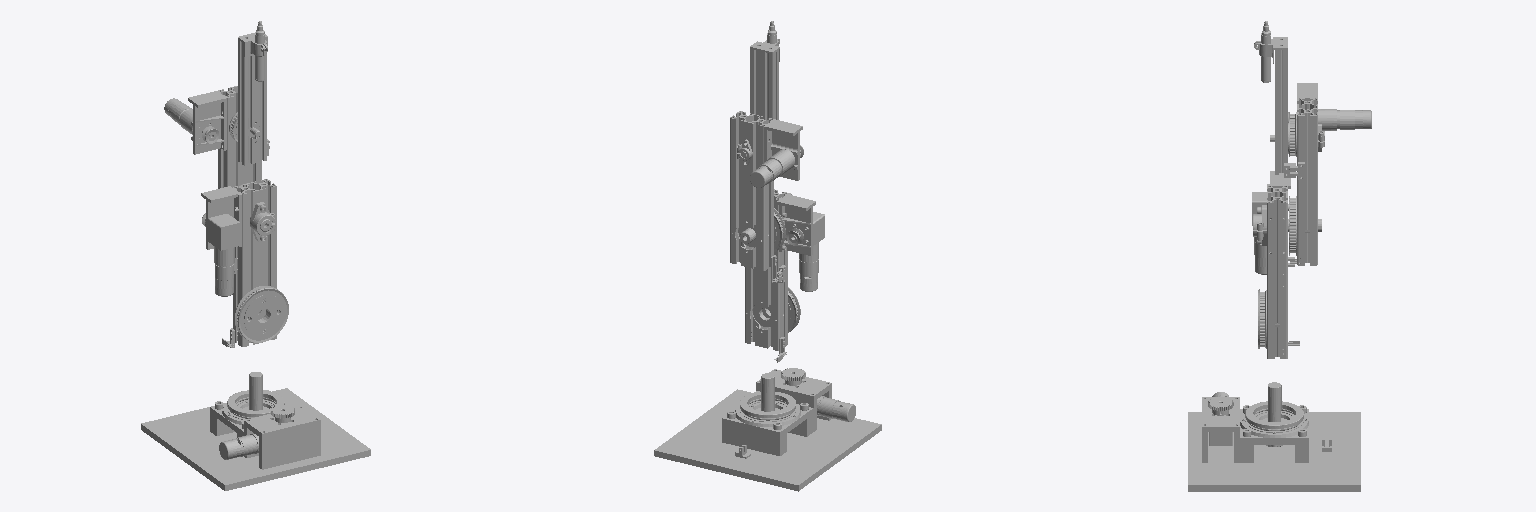
robot.urdf — coop_robot:
<robot
  name="coop_robot">
  <link
    name="link_00">
    <inertial>
      <origin
        xyz="-0.0023271 -0.014441 0.023123"
        rpy="0 0 0" />
      <mass
        value="1.3431" />
      <inertia
        ixx="0.0057456"
        ixy="-0.00020025"
        ixz="5.6132E-05"
        iyy="0.0046709"
        iyz="0.00042835"
        izz="0.0091733" />
    </inertial>
    <visual>
      <origin
        xyz="0 0 0"
        rpy="0 0 0" />
      <geometry>
        <mesh
          filename="package://coop_robot/meshes/link_00.STL" />
      </geometry>
      <material
        name="">
        <color
          rgba="0.75294 0.75294 0.75294 1" />
      </material>
    </visual>
    <collision>
      <origin
        xyz="0 0 0"
        rpy="0 0 0" />
      <geometry>
        <mesh
          filename="package://coop_robot/meshes/link_00.STL" />
      </geometry>
    </collision>
  </link>
  <link
    name="link_01">
    <inertial>
      <origin
        xyz="-0.0045838 -0.0037478 0.086733"
        rpy="0 0 0" />
      <mass
        value="1.8146" />
      <inertia
        ixx="0.0099497"
        ixy="-0.00038717"
        ixz="0.00032994"
        iyy="0.0083348"
        iyz="0.00028475"
        izz="0.0056515" />
    </inertial>
    <visual>
      <origin
        xyz="0 0 0"
        rpy="0 0 0" />
      <geometry>
        <mesh
          filename="package://coop_robot/meshes/link_01.STL" />
      </geometry>
      <material
        name="">
        <color
          rgba="0.75294 0.75294 0.75294 1" />
      </material>
    </visual>
    <collision>
      <origin
        xyz="0 0 0"
        rpy="0 0 0" />
      <geometry>
        <mesh
          filename="package://coop_robot/meshes/link_01.STL" />
      </geometry>
    </collision>
  </link>
  <joint
    name="joint_01"
    type="revolute">
    <origin
      xyz="0 0 0.067"
      rpy="-3.9479E-49 0 0" />
    <parent
      link="link_00" />
    <child
      link="link_01" />
    <axis
      xyz="0 0 1" />
    <limit effort="0" velocity="0.1" lower="-1.6" upper="1.6"/>
  </joint>
  <link
    name="link_02">
    <inertial>
      <origin
        xyz="-0.0087922 0.1007 0.0028096"
        rpy="0 0 0" />
      <mass
        value="0.97328" />
      <inertia
        ixx="0.0049603"
        ixy="0.00023072"
        ixz="8.39E-05"
        iyy="0.0010337"
        iyz="0.00010422"
        izz="0.0052056" />
    </inertial>
    <visual>
      <origin
        xyz="0 0 0"
        rpy="0 0 0" />
      <geometry>
        <mesh
          filename="package://coop_robot/meshes/link_02.STL" />
      </geometry>
      <material
        name="">
        <color
          rgba="0.75294 0.75294 0.75294 1" />
      </material>
    </visual>
    <collision>
      <origin
        xyz="0 0 0"
        rpy="0 0 0" />
      <geometry>
        <mesh
          filename="package://coop_robot/meshes/link_02.STL" />
      </geometry>
    </collision>
  </link>
  <joint
    name="joint_02"
    type="revolute">
    <origin
      xyz="0 0.004 0.15"
      rpy="1.5708 6.8423E-48 0" />
    <parent
      link="link_01" />
    <child
      link="link_02" />
    <axis
      xyz="0 0 -1" />
    <limit effort="0" velocity="0.1" lower="0" upper="1.6"/>
  </joint>
  <link
    name="link_03">
    <inertial>
      <origin
        xyz="-0.010146 0.072167 -0.0024895"
        rpy="0 0 0" />
      <mass
        value="0.59881" />
      <inertia
        ixx="0.0032746"
        ixy="0.00043152"
        ixz="-0.00015625"
        iyy="0.00070874"
        iyz="0.00027145"
        izz="0.0035174" />
    </inertial>
    <visual>
      <origin
        xyz="0 0 0"
        rpy="0 0 0" />
      <geometry>
        <mesh
          filename="package://coop_robot/meshes/link_03.STL" />
      </geometry>
      <material
        name="">
        <color
          rgba="0.75294 0.75294 0.75294 1" />
      </material>
    </visual>
    <collision>
      <origin
        xyz="0 0 0"
        rpy="0 0 0" />
      <geometry>
        <mesh
          filename="package://coop_robot/meshes/link_03.STL" />
      </geometry>
    </collision>
  </link>
  <joint
    name="joint_03"
    type="revolute">
    <origin
      xyz="0 0.15 -0.044"
      rpy="3.9479E-49 0 0" />
    <parent
      link="link_02" />
    <child
      link="link_03" />
    <axis
      xyz="0 0 -1" />
    <limit effort="0" velocity="0.1" lower="0" upper="1.6"/>
  </joint>
  <link
    name="link_04">
    <inertial>
      <origin
        xyz="0.00093468 0.033853 0.033404"
        rpy="0 0 0" />
      <mass
        value="0.091248" />
      <inertia
        ixx="0.00028862"
        ixy="6.2938E-06"
        ixz="6.6376E-07"
        iyy="2.3828E-05"
        iyz="-1.5879E-05"
        izz="0.00029741" />
    </inertial>
    <visual>
      <origin
        xyz="0 0 0"
        rpy="0 0 0" />
      <geometry>
        <mesh
          filename="package://coop_robot/meshes/link_04.STL" />
      </geometry>
      <material
        name="">
        <color
          rgba="0.75294 0.75294 0.75294 1" />
      </material>
    </visual>
    <collision>
      <origin
        xyz="0 0 0"
        rpy="0 0 0" />
      <geometry>
        <mesh
          filename="package://coop_robot/meshes/link_04.STL" />
      </geometry>
    </collision>
  </link>
  <joint
    name="joint_04"
    type="revolute">
    <origin
      xyz="0 0.14 0"
      rpy="3.9479E-49 0 0" />
    <parent
      link="link_03" />
    <child
      link="link_04" />
    <axis
      xyz="0 0 -1" />
    <limit effort="0" velocity="0.1" lower="0" upper="1.6"/>
  </joint>
  <link
    name="link_05">
    <inertial>
      <origin
        xyz="-5.9985E-11 -0.050802 -0.0033648"
        rpy="0 0 0" />
      <mass
        value="0.022612" />
      <inertia
        ixx="1.1224E-05"
        ixy="4.0657E-14"
        ixz="4.7561E-15"
        iyy="2.5217E-06"
        iyz="7.9297E-07"
        izz="1.057E-05" />
    </inertial>
    <visual>
      <origin
        xyz="0 0 0"
        rpy="0 0 0" />
      <geometry>
        <mesh
          filename="package://coop_robot/meshes/link_05.STL" />
      </geometry>
      <material
        name="">
        <color
          rgba="0.75294 0.75294 0.75294 1" />
      </material>
    </visual>
    <collision>
      <origin
        xyz="0 0 0"
        rpy="0 0 0" />
      <geometry>
        <mesh
          filename="package://coop_robot/meshes/link_05.STL" />
      </geometry>
    </collision>
  </link>
  <joint
    name="end_effector"
    type="fixed">
    <origin
      xyz="0 0.188 0.0602"
      rpy="3.9479E-49 0 0" />
    <parent
      link="link_04" />
    <child
      link="link_05" />
    <axis
      xyz="0 0 0" />
  </joint>
</robot>

--- Render facts (derived) ---
3 views of the same robot in one strip: view 1: azimuth 30°, elevation 25°; view 2: azimuth 150°, elevation 25°; view 3: azimuth 270°, elevation 25° (orthographic).
Robot: coop_robot — 6 links, 5 joints (4 revolute, 1 fixed); root link link_00; default pose: every joint at zero.
Visible links, largest first — view 1: link_00, link_02, link_03, link_04, link_05; view 2: link_00, link_03, link_02, link_04; view 3: link_00, link_02, link_03, link_04, link_05.
Link boxes in pixels (x1,y1,x2,y2): link_00: [141, 372, 370, 490]; link_02: [201, 179, 288, 347]; link_03: [164, 86, 269, 188]; link_04: [229, 39, 268, 165]; link_05: [238, 21, 267, 81]; link_00: [654, 368, 881, 491]; link_03: [730, 111, 803, 282]; link_02: [740, 189, 824, 362]; link_04: [750, 49, 778, 119]; link_00: [1188, 382, 1360, 491]; link_02: [1252, 171, 1321, 358]; link_03: [1270, 83, 1371, 265]; link_04: [1275, 50, 1296, 177]; link_05: [1254, 21, 1287, 82].
Size in the robot's own frame: 0.25 by 0.2656 by 0.695 metres.
5 mesh visuals loaded from 6 distinct referenced files (5 binary STL); not drawn: 1 (reference not matched to a file when rendering).